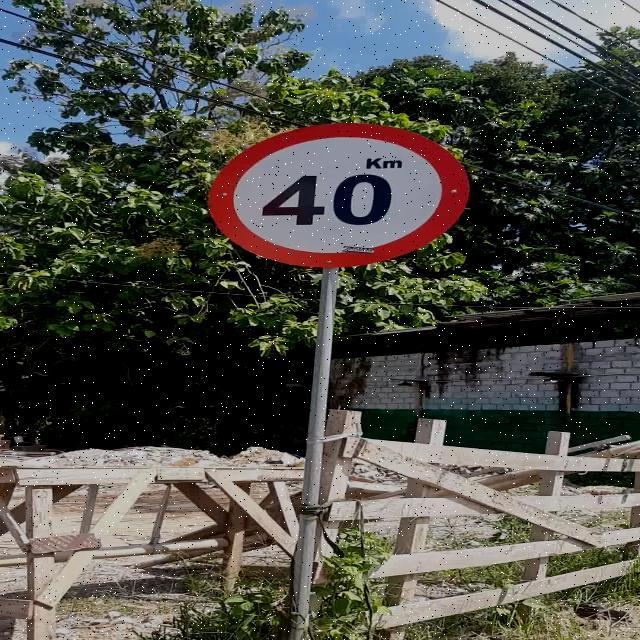Kecepatan Maks. 40 km: (204, 122, 468, 268)
